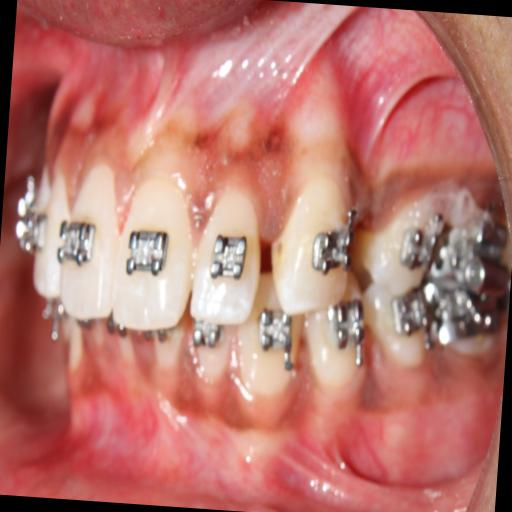correct_brace: (306, 206, 355, 284), (53, 206, 101, 280), (124, 222, 174, 292), (208, 226, 252, 288)
incorrect_brace: (189, 178, 267, 328)
